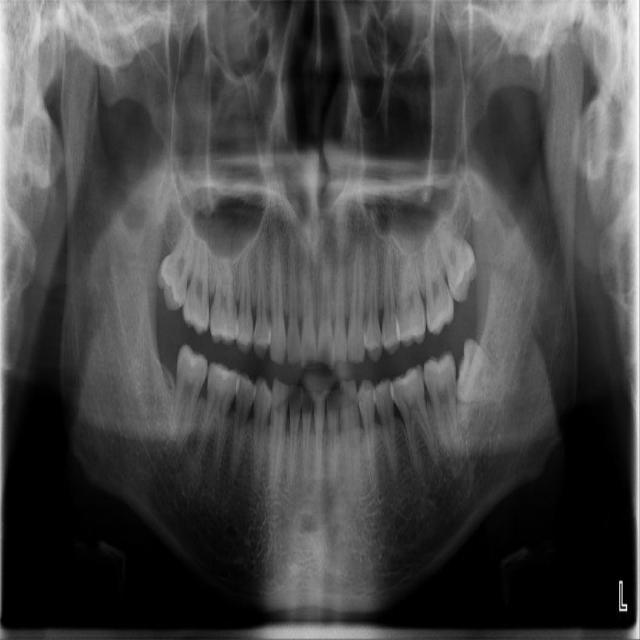3M ESPE Implant: (151, 189, 207, 313)
52: (383, 361, 437, 414), (198, 357, 245, 407)
BioHorizons Implant: (414, 219, 458, 339)
BioLife Implant: (424, 196, 487, 304)
Biomet 3i Implant: (452, 335, 510, 408)
Blue Sky Bio Implant: (421, 350, 462, 465)
Caries: (181, 197, 215, 336)
Implant: (164, 342, 211, 458)
